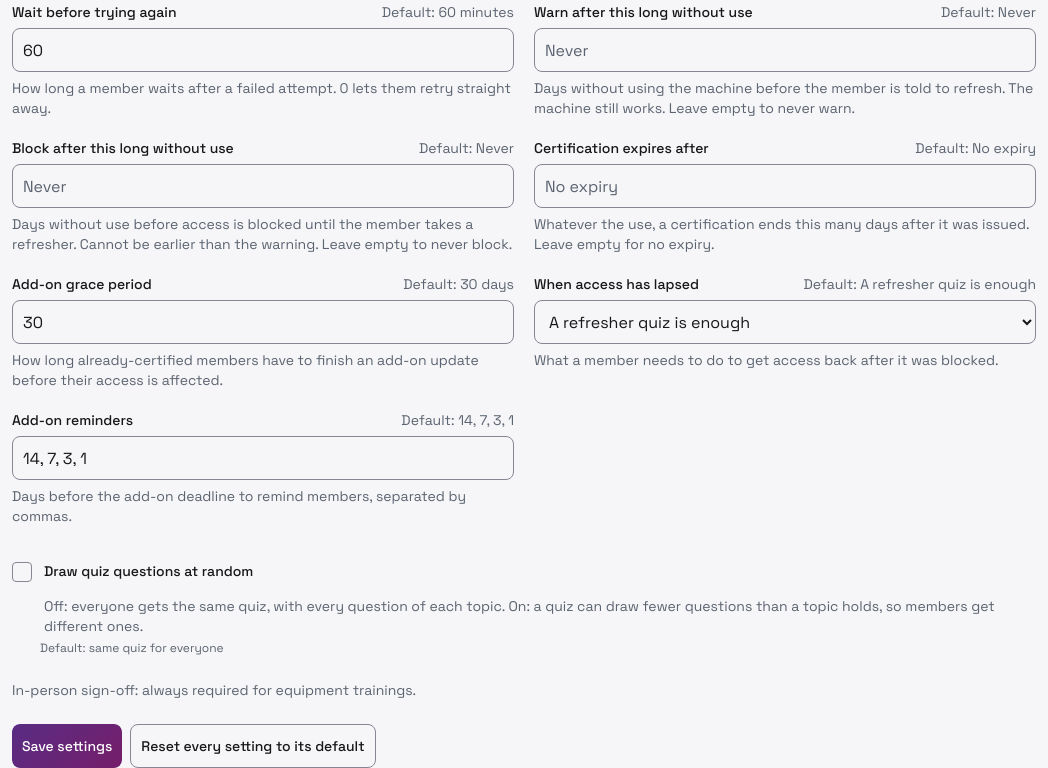
Scenario: TrainingSettingsForm › refuses reminder days that are not numbers
(page scrolled)
Step 1. Replace the text in the field labelled "Add-on reminders" with "7, tomorrow" → (263, 458), box x1=12 y1=436 x2=514 y2=480
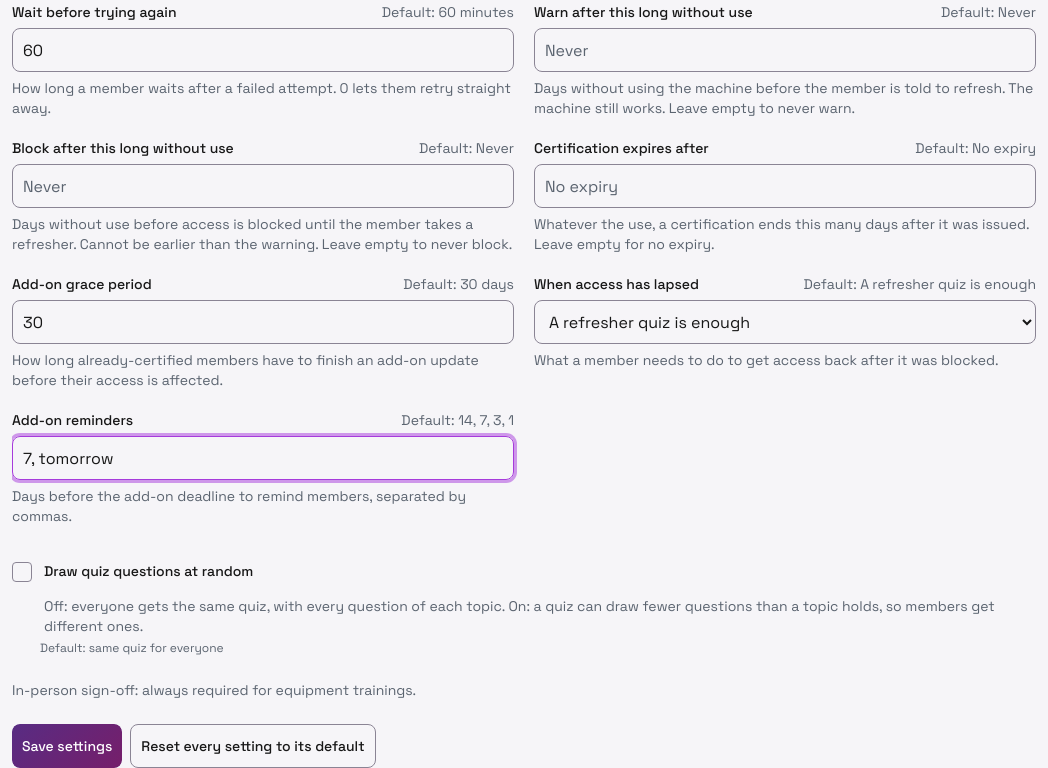
Step 2. Click the button "Save settings" → (67, 746), box x1=12 y1=724 x2=122 y2=767
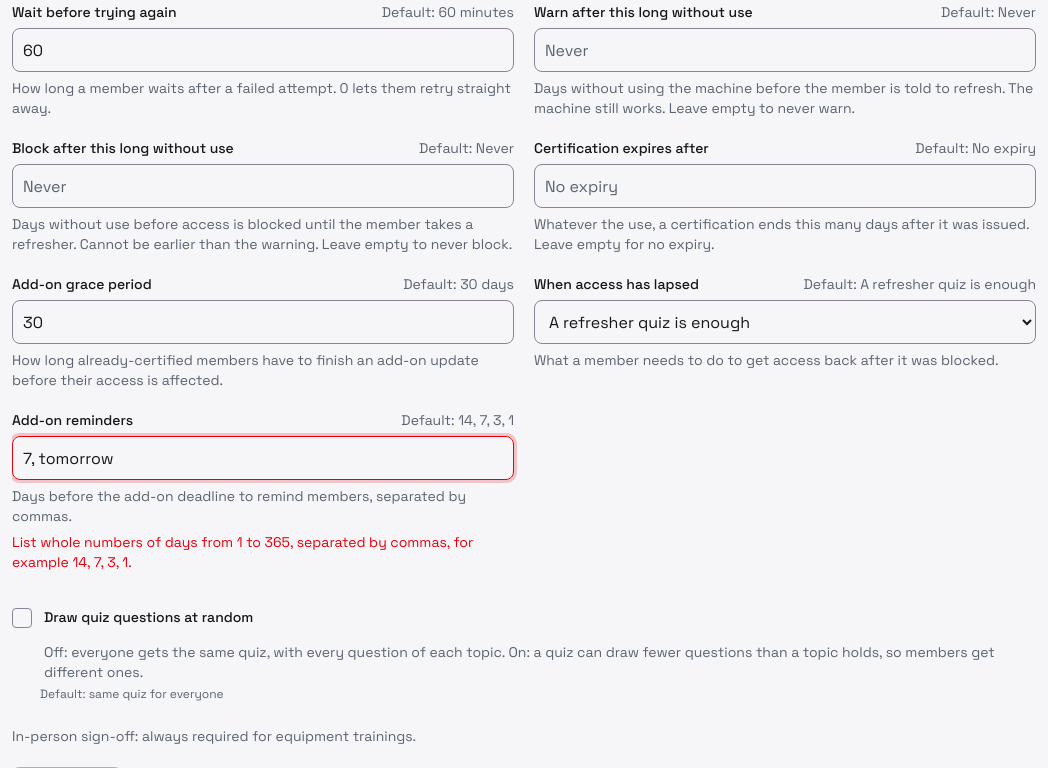
Expected: the text "whole numbers of days from 1 to 365" is shown, x1=12 y1=533 x2=473 y2=571
